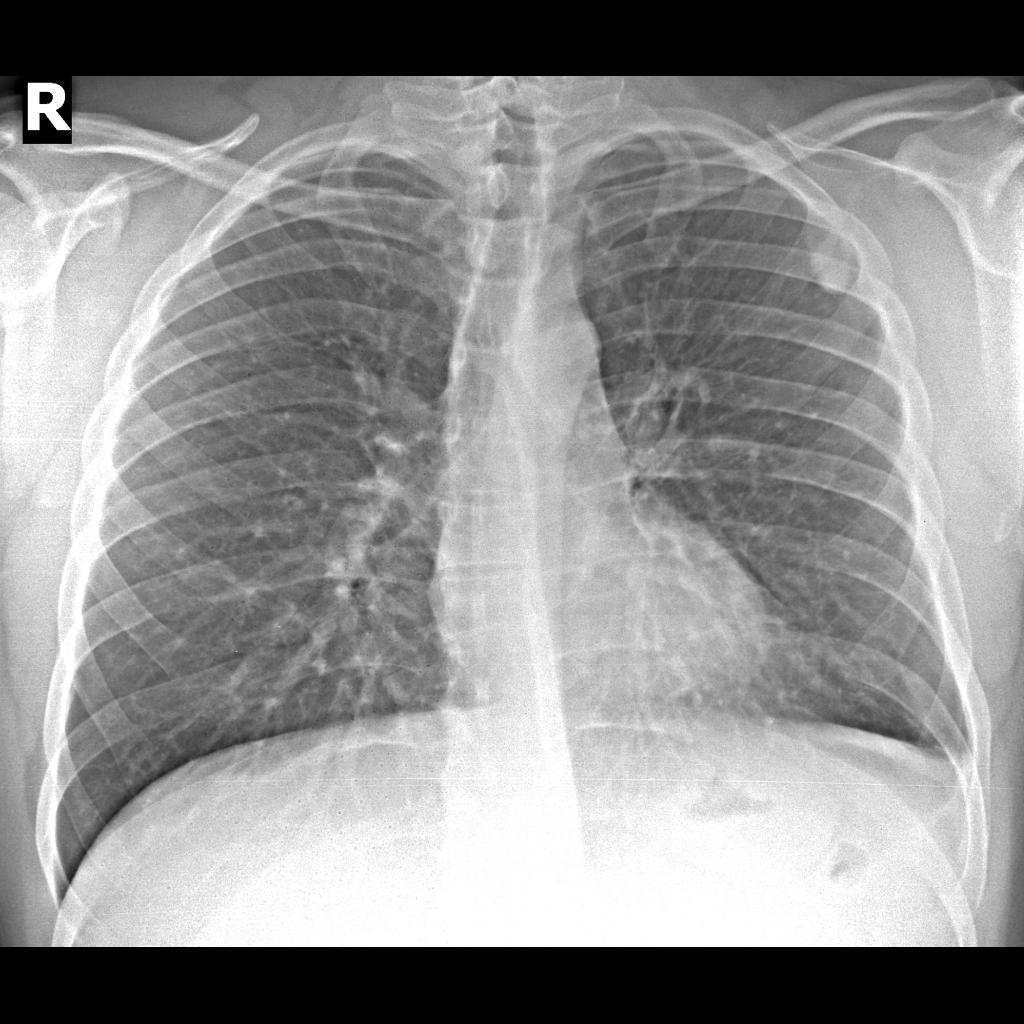Nodule: (800, 230, 868, 303)
